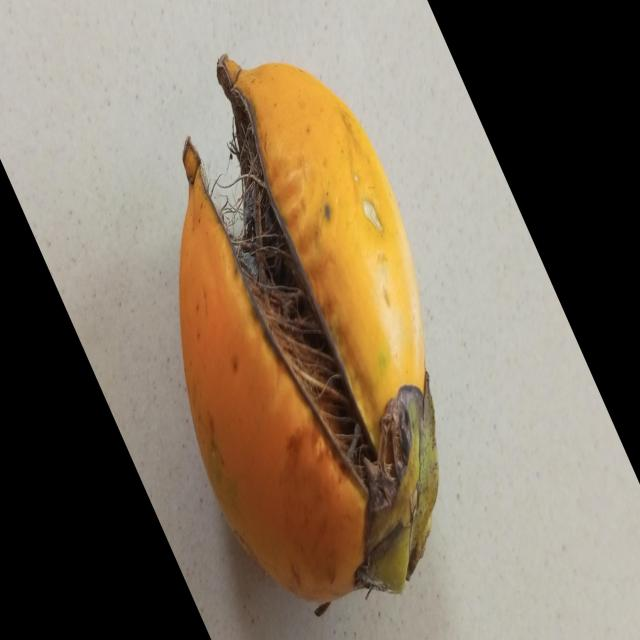damaged: (179, 56, 438, 616)
